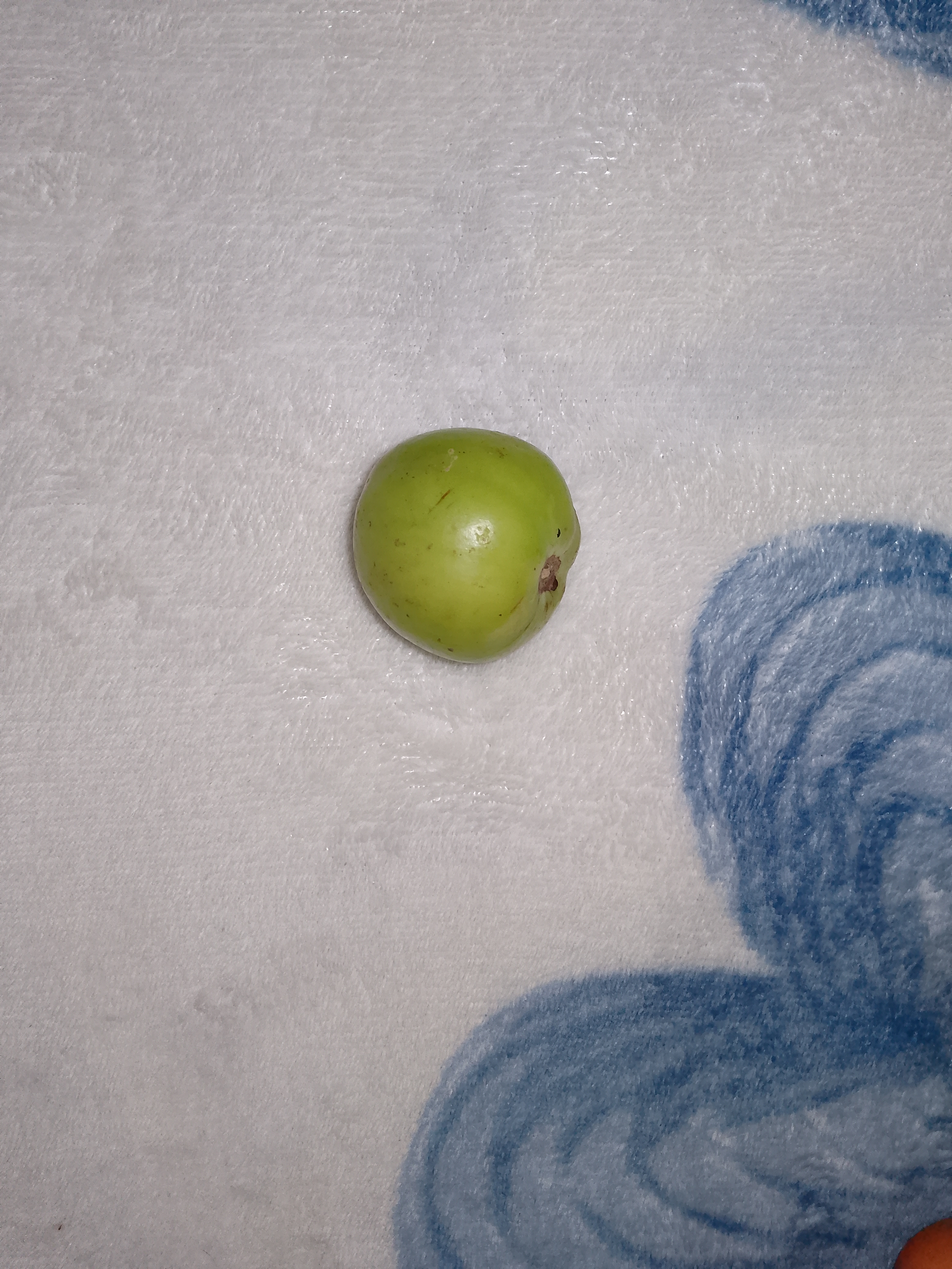Unripe: (319, 366, 639, 693)
